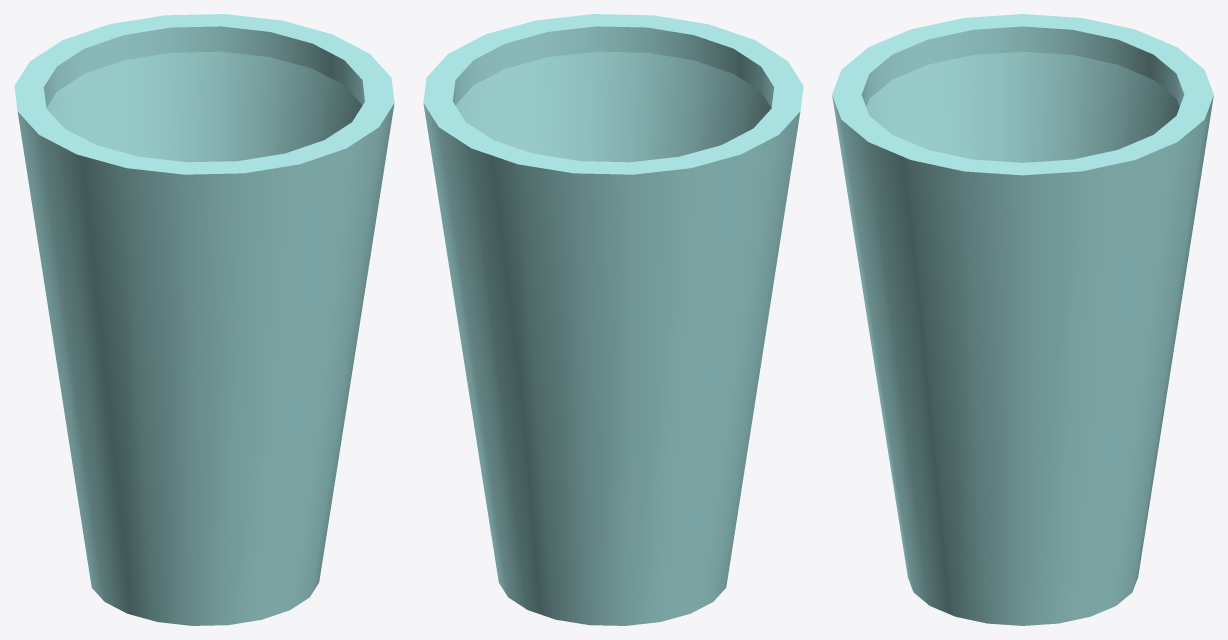
File: TrashCan.fbx
The picture shows the model from 3 angles, left to right: view 1: azimuth 30°, elevation 25°; view 2: azimuth 150°, elevation 25°; view 3: azimuth 270°, elevation 25°; orthographic projection.
Visible parts, largest first — view 1: Trash; view 2: Trash; view 3: Trash.
Part boxes in pixels (bbox=[...]): Trash: bbox=[14, 14, 394, 625]; Trash: bbox=[423, 14, 803, 625]; Trash: bbox=[832, 14, 1213, 625].
Bounding box in the file's own units: 48.22 × 67.24 × 48.22.
